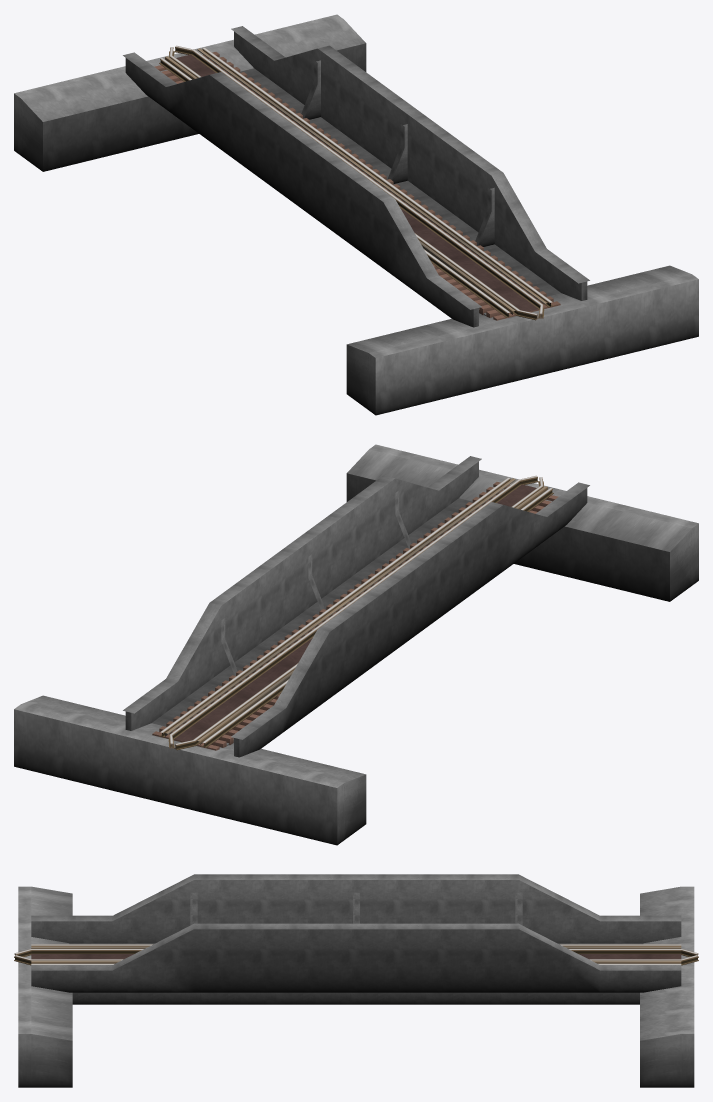
Rendered from TOB_1RAIL_BRIDGE00.glb.
The picture shows the model from 3 angles, top to bottom: view 1: azimuth 30°, elevation 25°; view 2: azimuth 150°, elevation 25°; view 3: azimuth 270°, elevation 25°; orthographic projection. The views are drawn at different scales.
Visible parts, largest first — view 1: obj16, obj6, obj3, obj4, obj17, obj18, obj15; view 2: obj16, obj3, obj6, bone0; view 3: obj16, obj3, obj6.
Boxes of the visible parts, x1,y1,x2,y2 form: obj16: (123,26,589,327); obj6: (346,265,698,415); obj3: (14,14,366,171); obj4: (460,276,560,320); obj17: (387,124,407,183); obj18: (475,187,494,246); obj15: (301,60,320,119); obj16: (123,456,589,757); obj3: (14,695,366,845); obj6: (346,444,698,601); bone0: (152,706,252,750); obj16: (31,874,681,1004); obj3: (640,886,698,1087); obj6: (14,886,72,1087).
Size of the model in its own units: 26.82 by 9.5 by 52.7.
Materials: 21 (18 with a texture image).
